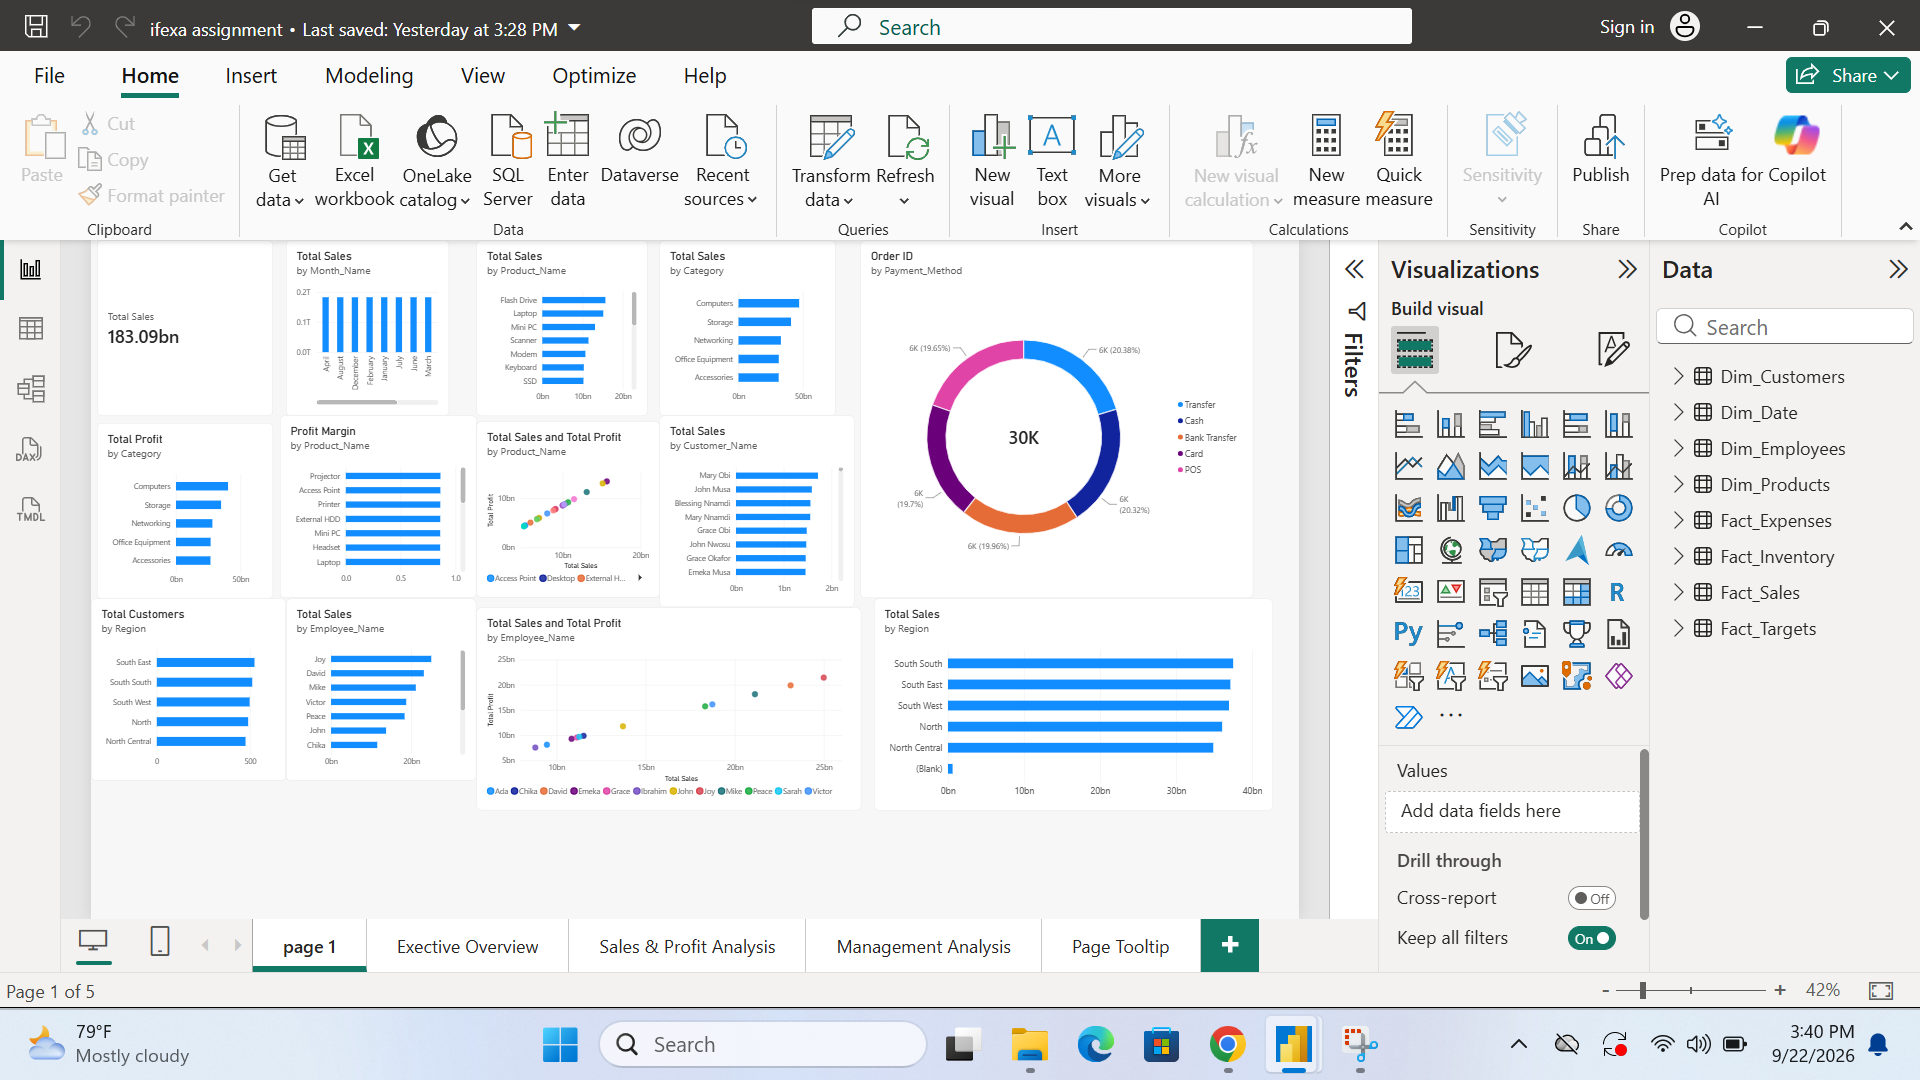

Layout of this report page (visuals, bound fields, positions):
{"tool":"powerbi","page":{"name":"page 1","canvas":[1920,1080],"ordinal":0},"visuals":[{"type":"cardVisual","fields":{"Data":["Dim_Customers.Total Sales"]},"box":[10,0,280,280],"z":0},{"type":"clusteredColumnChart","fields":{"Category":["Dim_Date.Month_Name"],"Y":["Dim_Customers.Total Sales"]},"box":[309.9,0,259.5,279.7],"z":1000},{"type":"barChart","fields":{"Category":["Dim_Products.Product_Name"],"Y":["Dim_Customers.Total Sales"]},"box":[612.3,0,272.1,279.7],"z":2000},{"type":"clusteredBarChart","fields":{"Category":["Dim_Products.Category"],"Y":["Dim_Customers.Total Sales"]},"box":[904.6,0,280,280],"z":3000},{"type":"barChart","fields":{"Category":["Dim_Products.Category"],"Y":["Dim_Customers.Total Profit"]},"box":[10,290,280,280],"z":4000},{"type":"clusteredBarChart","fields":{"Category":["Dim_Products.Product_Name"],"Y":["Dim_Customers.Profit Margin"]},"box":[299.8,279.7,312.4,289.8],"z":5000},{"type":"scatterChart","fields":{"Series":["Dim_Products.Product_Name"],"X":["Dim_Customers.Total Sales"],"Y":["Dim_Customers.Total Profit"]},"box":[612.3,289.8,292.3,279.7],"z":6000},{"type":"clusteredBarChart","fields":{"Category":["Dim_Customers.Customer_Name"],"Y":["Dim_Customers.Total Sales"]},"box":[904.6,279.7,309.9,304.9],"z":7000},{"type":"clusteredBarChart","fields":{"Category":["Dim_Customers.Region"],"Y":["Dim_Customers.Total Customers"]},"box":[0,569.4,309.9,289.8],"z":8000},{"type":"donutChart","fields":{"Category":["Fact_Sales.Payment_Method"],"Y":["Dim_Customers.Order ID"]},"box":[1224.6,0,624.9,569.4],"z":9000},{"type":"clusteredBarChart","fields":{"Category":["Dim_Employees.Employee_Name"],"Y":["Dim_Customers.Total Sales"]},"box":[309.9,569.4,302.4,289.8],"z":10000},{"type":"scatterChart","fields":{"Series":["Dim_Employees.Employee_Name"],"X":["Dim_Customers.Total Sales"],"Y":["Dim_Customers.Total Profit"]},"box":[612.3,584.6,612.3,322.5],"z":11000},{"type":"clusteredBarChart","fields":{"Category":["Dim_Customers.Region"],"Y":["Dim_Customers.Total Sales"]},"box":[1244.7,569.4,635,337.6],"z":12000}]}

Visuals, with their boxes on the page's 1920x1080 design canvas (x1, y1, x2, y2). These are canvas units, not pixel positions in the 1920x1080 screenshot, which may show the page scaled, cropped or inside an application window:
cardVisual - Dim_Customers.Total Sales: {"x1": 10, "y1": 0, "x2": 290, "y2": 280}
clusteredColumnChart - Dim_Date.Month_Name x Dim_Customers.Total Sales: {"x1": 310, "y1": 0, "x2": 569, "y2": 280}
barChart - Dim_Products.Product_Name x Dim_Customers.Total Sales: {"x1": 612, "y1": 0, "x2": 884, "y2": 280}
clusteredBarChart - Dim_Products.Category x Dim_Customers.Total Sales: {"x1": 905, "y1": 0, "x2": 1185, "y2": 280}
barChart - Dim_Products.Category x Dim_Customers.Total Profit: {"x1": 10, "y1": 290, "x2": 290, "y2": 570}
clusteredBarChart - Dim_Products.Product_Name x Dim_Customers.Profit Margin: {"x1": 300, "y1": 280, "x2": 612, "y2": 570}
scatterChart - Dim_Products.Product_Name x Dim_Customers.Total Sales: {"x1": 612, "y1": 290, "x2": 905, "y2": 570}
clusteredBarChart - Dim_Customers.Customer_Name x Dim_Customers.Total Sales: {"x1": 905, "y1": 280, "x2": 1214, "y2": 585}
clusteredBarChart - Dim_Customers.Region x Dim_Customers.Total Customers: {"x1": 0, "y1": 569, "x2": 310, "y2": 859}
donutChart - Fact_Sales.Payment_Method x Dim_Customers.Order ID: {"x1": 1225, "y1": 0, "x2": 1850, "y2": 569}
clusteredBarChart - Dim_Employees.Employee_Name x Dim_Customers.Total Sales: {"x1": 310, "y1": 569, "x2": 612, "y2": 859}
scatterChart - Dim_Employees.Employee_Name x Dim_Customers.Total Sales: {"x1": 612, "y1": 585, "x2": 1225, "y2": 907}
clusteredBarChart - Dim_Customers.Region x Dim_Customers.Total Sales: {"x1": 1245, "y1": 569, "x2": 1880, "y2": 907}
